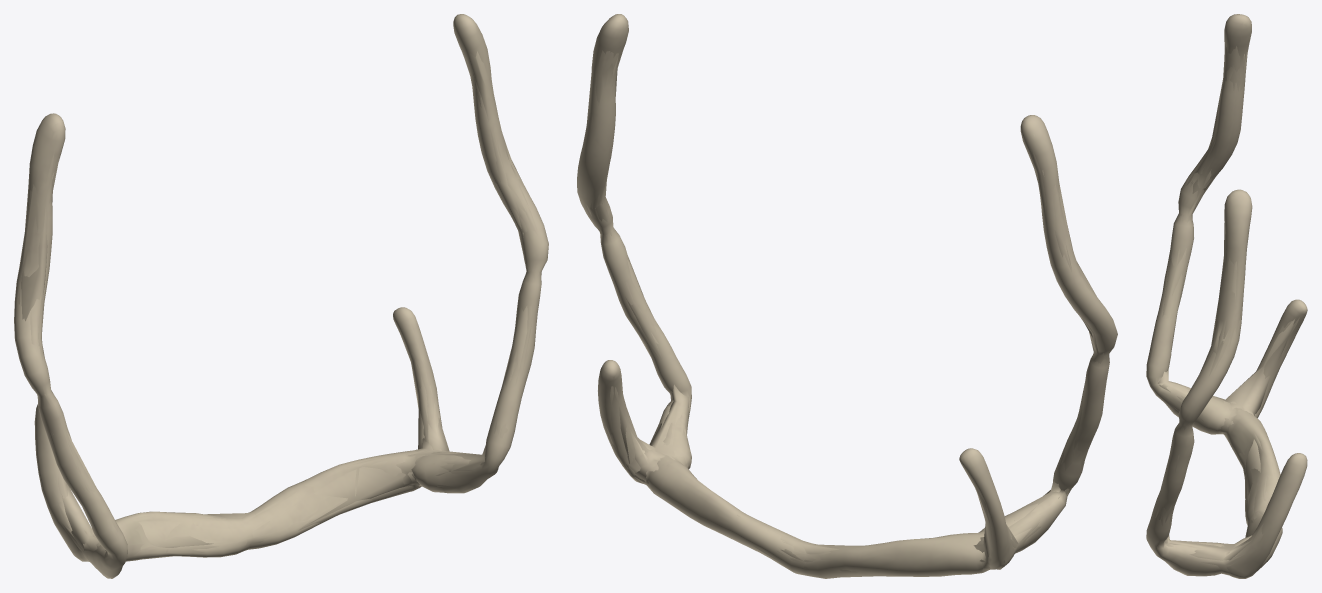
The model's file is Hyoid.fbx.
3 renders of one model, left to right at view 1: azimuth 30°, elevation 25°; view 2: azimuth 150°, elevation 25°; view 3: azimuth 270°, elevation 25°, orthographic. The views are drawn at different scales.
Visible parts, largest first — view 1: Hyoid high, Hyoid, Hyoid low; view 2: Hyoid high, Hyoid, Hyoid low; view 3: Hyoid high, Hyoid, Hyoid low.
Part boxes in pixels (x1,y1,x2,y2): Hyoid high: (14, 14, 548, 578); Hyoid: (18, 51, 542, 572); Hyoid low: (19, 58, 536, 553); Hyoid high: (577, 14, 1117, 578); Hyoid: (581, 49, 1109, 577); Hyoid low: (595, 57, 1096, 577); Hyoid high: (1146, 14, 1307, 578); Hyoid: (1149, 39, 1299, 574); Hyoid low: (1157, 46, 1294, 574).
Bounding box in the file's own units: 11.24 × 10.14 × 3.4.
1 material, 1 textured.
